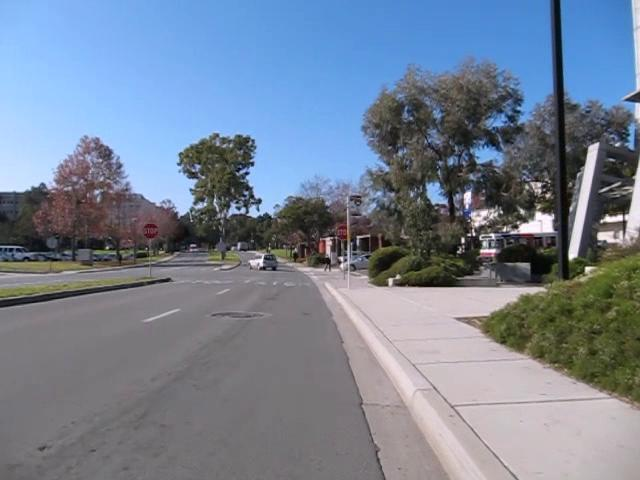stop: (141, 222, 159, 239)
